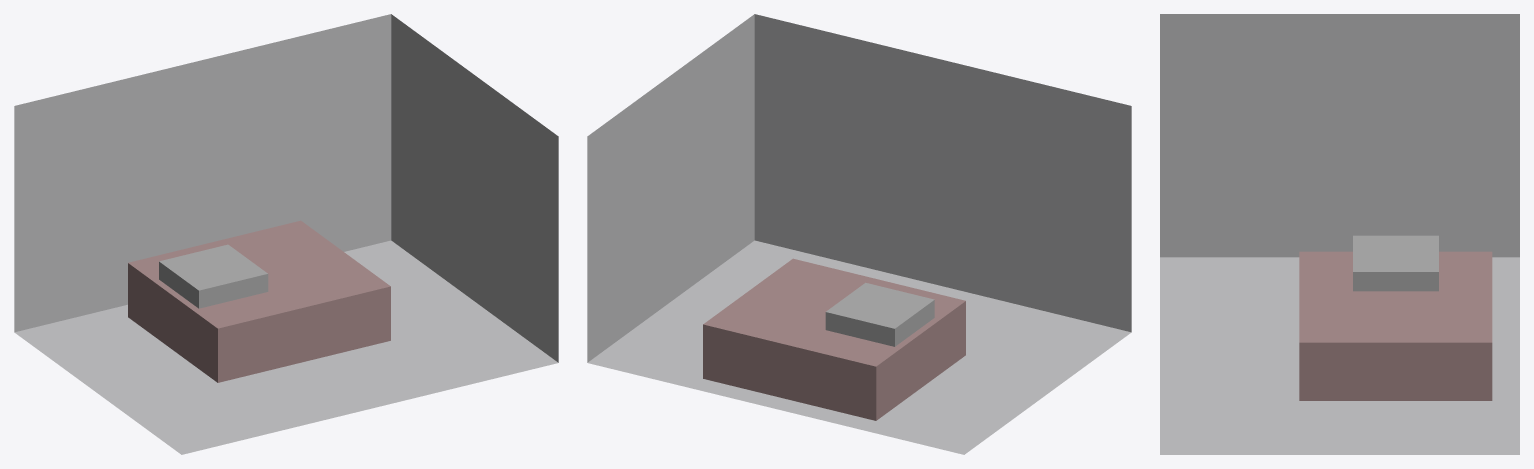
The model's file is current_layout.glb.
The picture shows the model from 3 angles, left to right: view 1: azimuth 30°, elevation 25°; view 2: azimuth 150°, elevation 25°; view 3: azimuth 270°, elevation 25°; orthographic projection. The views are drawn at different scales.
Visible parts, largest first — view 1: room, bed, wardrobe; view 2: room, bed, wardrobe; view 3: room, bed, wardrobe.
Boxes of the visible parts, x1,y1,x2,y2 form: room: (14,14,558,454); bed: (128,220,390,382); wardrobe: (159,244,268,308); room: (587,14,1131,454); bed: (703,258,965,420); wardrobe: (825,282,934,346); room: (1160,14,1519,454); bed: (1299,251,1492,400); wardrobe: (1353,235,1438,291).
Bounding box in the file's own units: 4.36 × 2.5 × 3.35.
